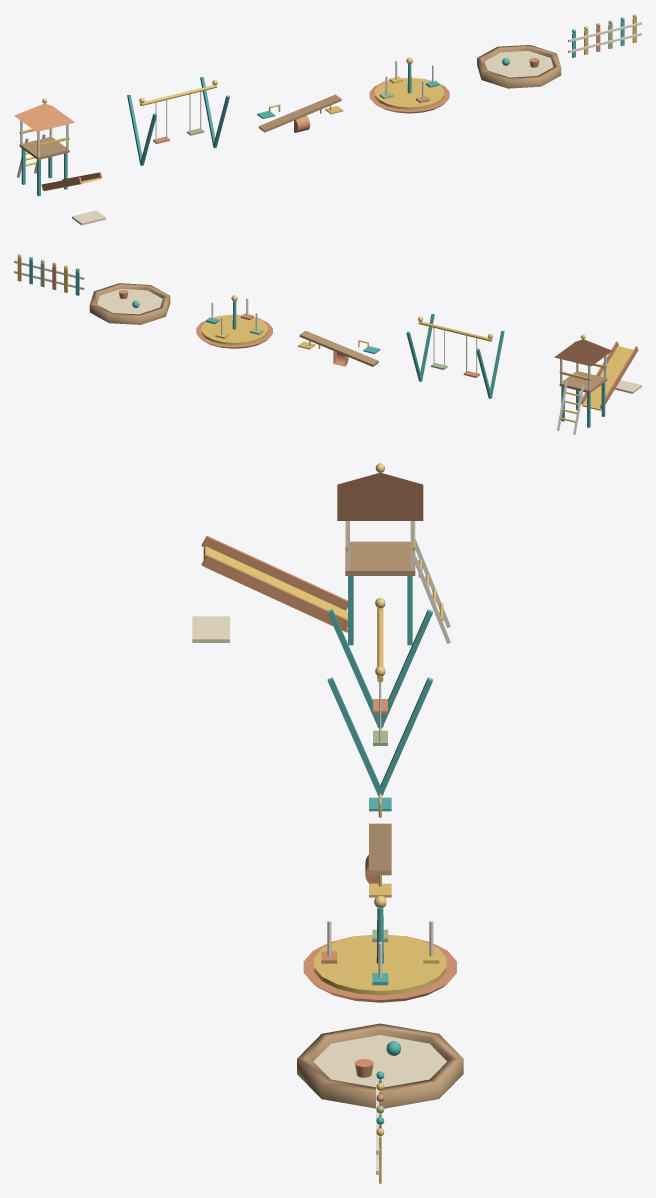
File: kit-8-taman-anak.glb
The picture shows the model from 3 angles, top to bottom: view 1: azimuth 30°, elevation 25°; view 2: azimuth 150°, elevation 25°; view 3: azimuth 270°, elevation 25°; orthographic projection. The views are drawn at different scales.
Parts seen in each view (by area): view 1: Taman_Perosotan, Taman_BakPasir, Taman_KomidiPutar, Taman_Ayunan, Taman_JungkatJungkit, Taman_Pagar; view 2: Taman_Perosotan, Taman_BakPasir, Taman_KomidiPutar, Taman_Ayunan, Taman_JungkatJungkit, Taman_Pagar; view 3: Taman_Perosotan, Taman_BakPasir, Taman_KomidiPutar, Taman_Ayunan, Taman_JungkatJungkit.
Boxes of the visible parts, box(x1,y1,x2,y2) form: Taman_Perosotan: box(14, 98, 105, 225); Taman_BakPasir: box(477, 45, 561, 88); Taman_KomidiPutar: box(369, 57, 449, 113); Taman_Ayunan: box(127, 77, 229, 165); Taman_JungkatJungkit: box(257, 94, 343, 132); Taman_Pagar: box(568, 14, 641, 57); Taman_Perosotan: box(554, 334, 641, 434); Taman_BakPasir: box(89, 283, 170, 324); Taman_KomidiPutar: box(196, 295, 272, 348); Taman_Ayunan: box(406, 314, 504, 398); Taman_JungkatJungkit: box(298, 330, 380, 366); Taman_Pagar: box(14, 254, 84, 295); Taman_Perosotan: box(192, 463, 450, 645); Taman_BakPasir: box(297, 1023, 463, 1108); Taman_KomidiPutar: box(303, 895, 456, 1002); Taman_Ayunan: box(327, 598, 432, 796); Taman_JungkatJungkit: box(365, 794, 391, 897).
Size of the model in its own units: 25.3 by 3.71 by 5.05.
